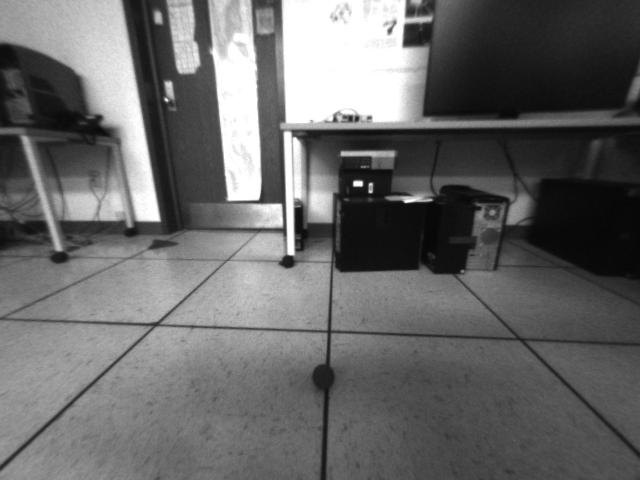dogtoy: (307, 354, 345, 397)
